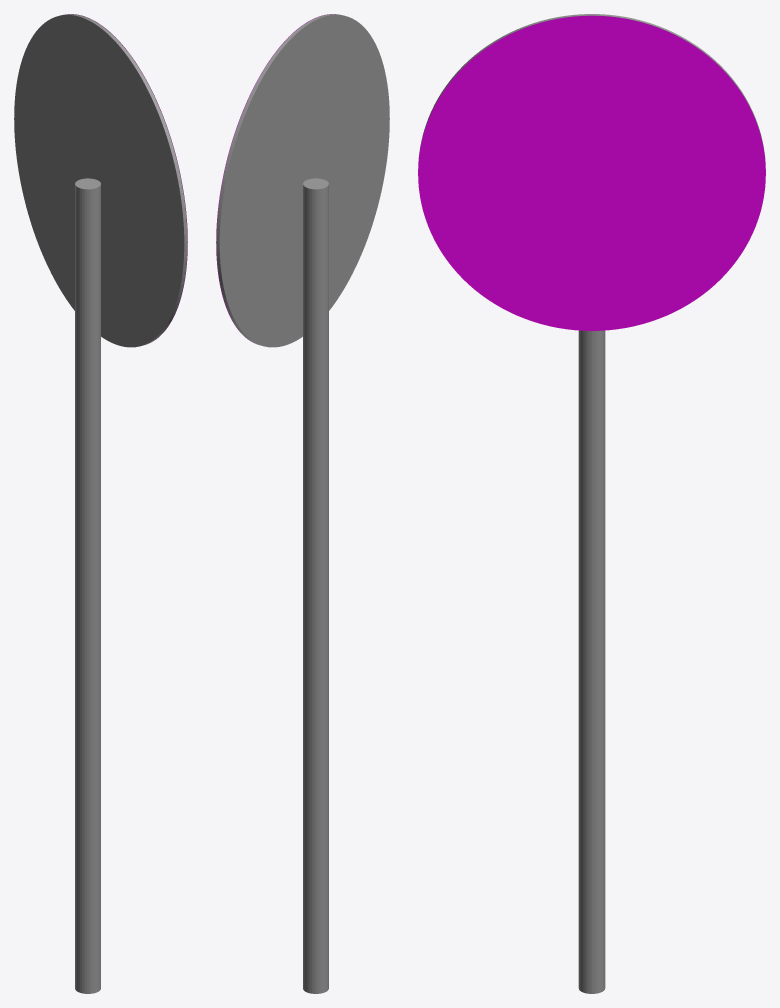
Rendered from sign_street_1.glb.
The picture shows the model from 3 angles, left to right: view 1: azimuth 30°, elevation 25°; view 2: azimuth 150°, elevation 25°; view 3: azimuth 270°, elevation 25°; orthographic projection. The views are drawn at different scales.
Parts seen in each view (by area): view 1: frame, stick; view 2: frame, stick; view 3: plane, stick, frame.
Boxes of the visible parts, left/top/right/bottom form: frame: left=14, top=14, right=187, bottom=347; stick: left=75, top=178, right=100, bottom=993; frame: left=216, top=14, right=389, bottom=347; stick: left=303, top=178, right=328, bottom=993; plane: left=418, top=15, right=765, bottom=330; stick: left=578, top=330, right=605, bottom=993; frame: left=418, top=14, right=765, bottom=169.
Bounding box in the file's own units: 0.0405 × 1.43 × 0.46.
